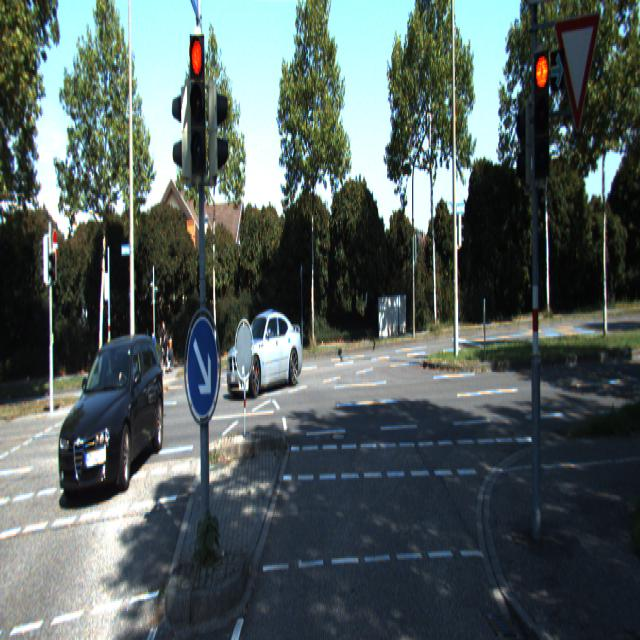Car: (54, 328, 168, 505), (224, 307, 305, 401)
